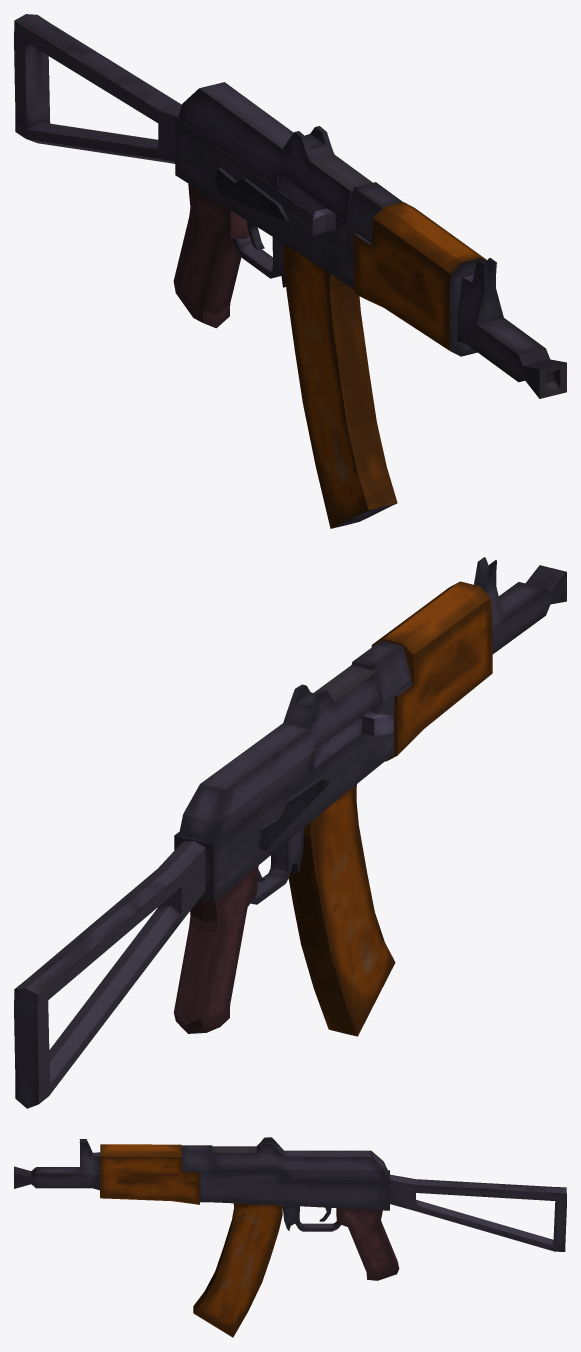
The model's file is AKS74uPSXAsset.fbx.
3 renders of one model, top to bottom at view 1: azimuth 30°, elevation 25°; view 2: azimuth 150°, elevation 25°; view 3: azimuth 270°, elevation 25°, orthographic. The views are drawn at different scales.
Parts seen in each view (by area): view 1: AkBody, AkMag, AkStock, AkFireSelector, AkChargingHandle; view 2: AkBody, AkStock, AkMag, AkFireSelector, AkChargingHandle; view 3: AkBody, AkMag, AkStock.
Part boxes in pixels (left/top/right/bottom): AkBody: left=173, top=82, right=566, bottom=398; AkMag: left=283, top=244, right=397, bottom=528; AkStock: left=14, top=14, right=181, bottom=163; AkFireSelector: left=215, top=168, right=289, bottom=221; AkChargingHandle: left=278, top=173, right=335, bottom=236; AkBody: left=173, top=557, right=566, bottom=1033; AkStock: left=14, top=841, right=205, bottom=1108; AkMag: left=288, top=784, right=395, bottom=1036; AkFireSelector: left=256, top=778, right=330, bottom=851; AkChargingHandle: left=313, top=709, right=393, bottom=768; AkBody: left=14, top=1137, right=399, bottom=1280; AkMag: left=193, top=1203, right=282, bottom=1337; AkStock: left=390, top=1174, right=566, bottom=1251.
Bounding box in the file's own units: 33.01 × 184 × 478.
1 material, 1 textured.
